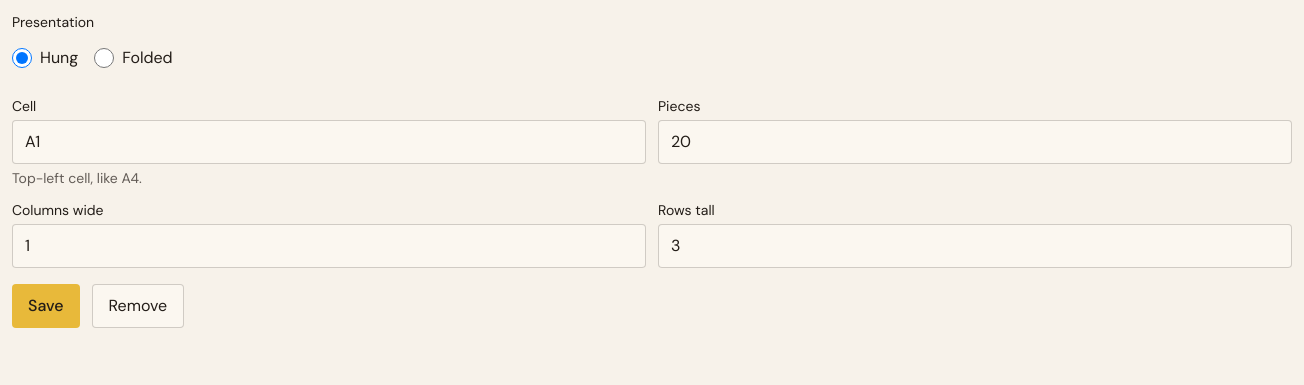
Test case: PlacementEditor › checks hung → folded against the folded stack limit
Click the radio button labelled "Folded". click: click(104, 58)
box: [94, 48, 114, 68]
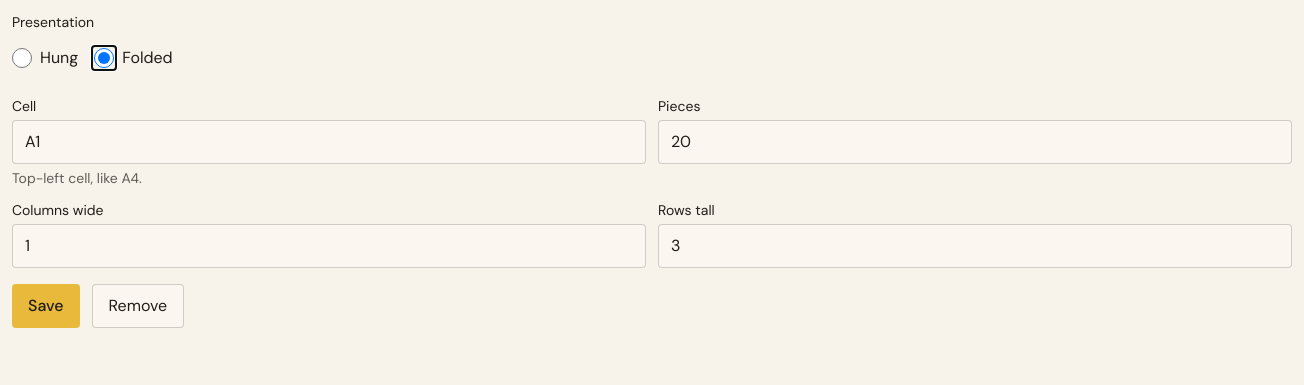
Click the button "Save". click: click(46, 306)
box: [12, 284, 80, 328]
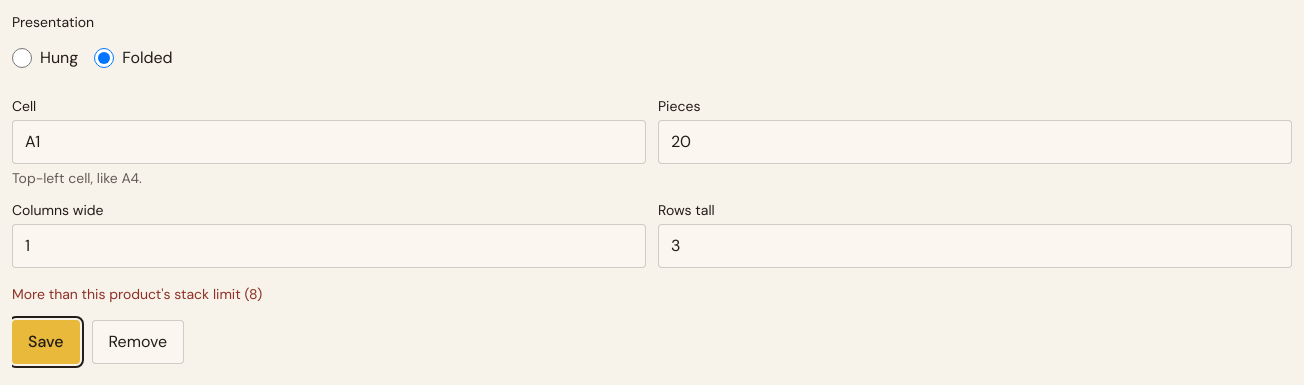
Expected: the message reads "More than this product's stack limit (8)", [12, 285, 262, 303]
